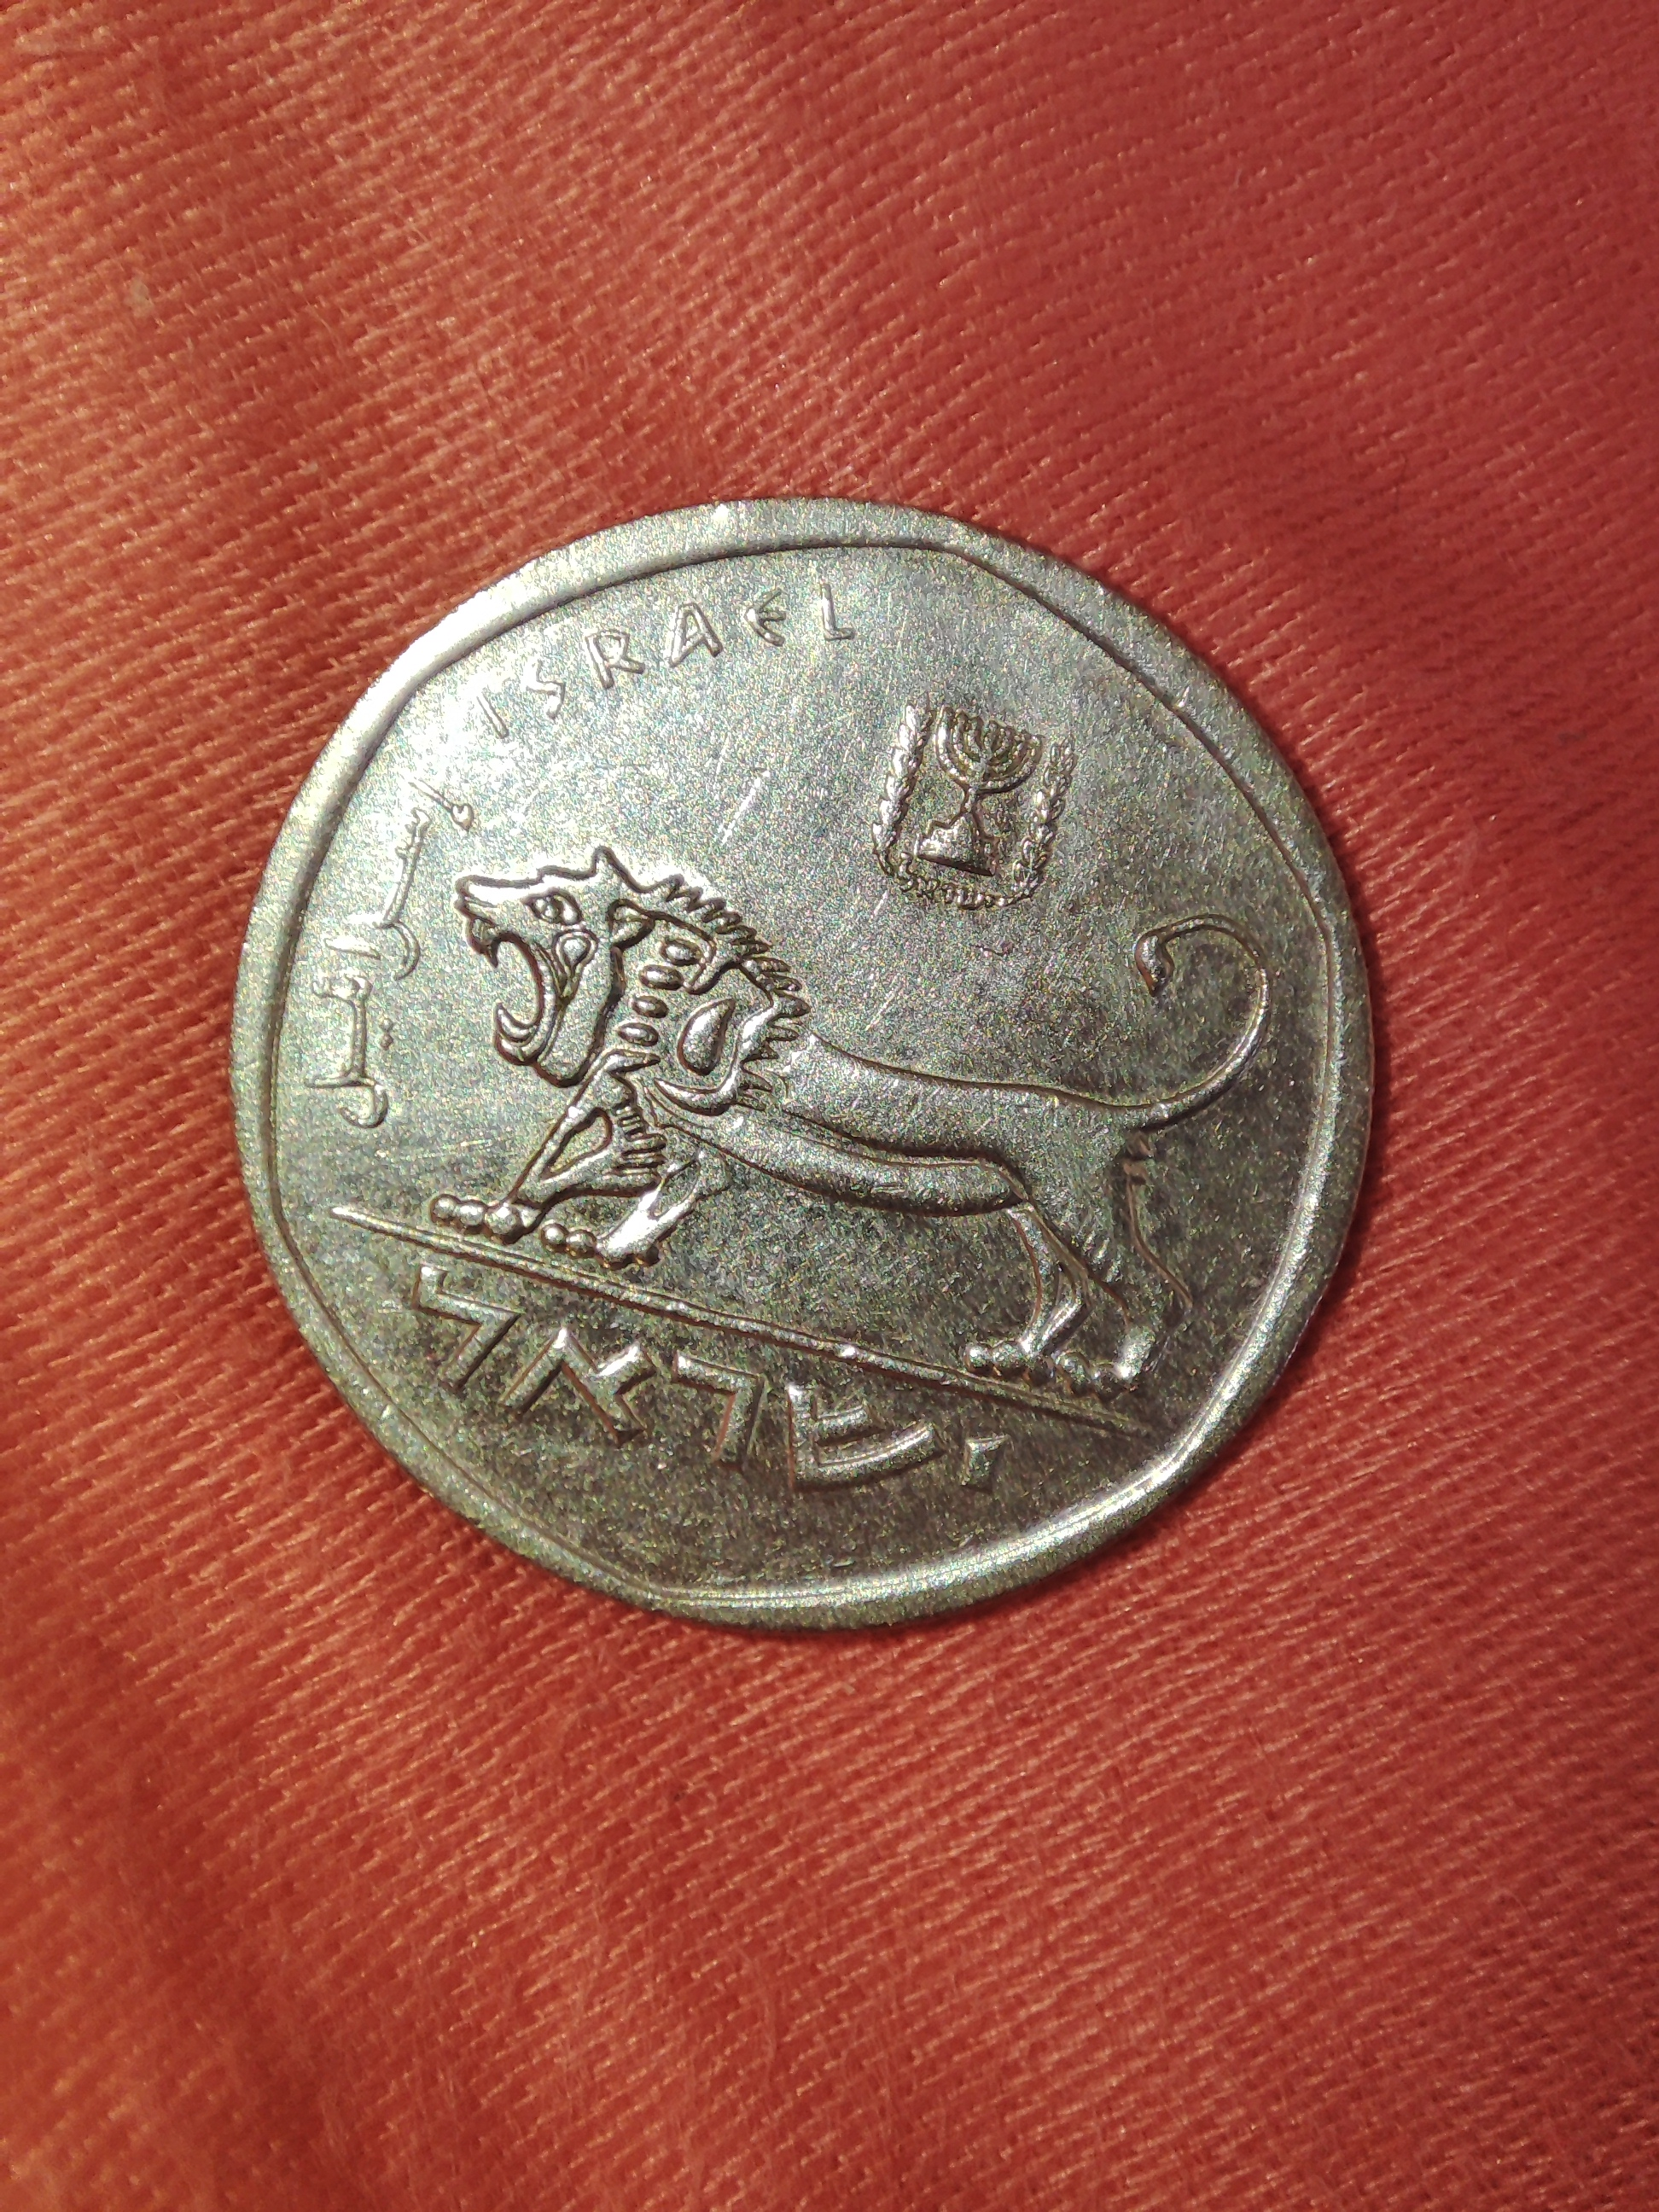1/2 old sheqel: (220, 484, 1408, 1649)
